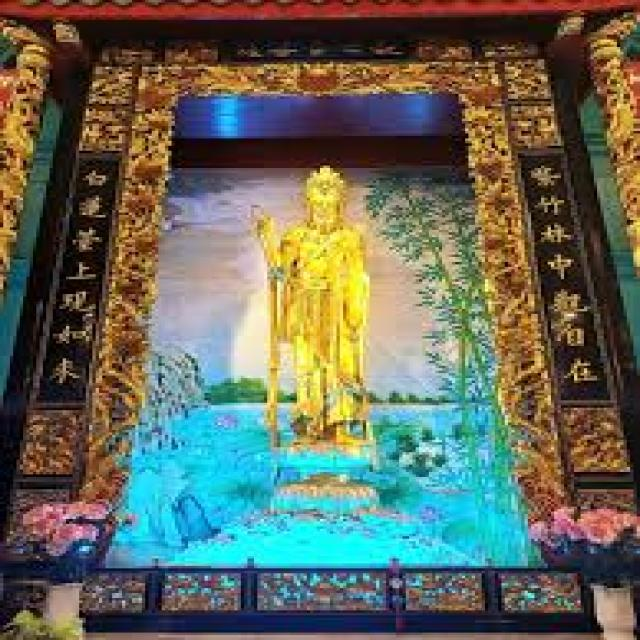Guan Yin: (285, 166, 371, 382)
